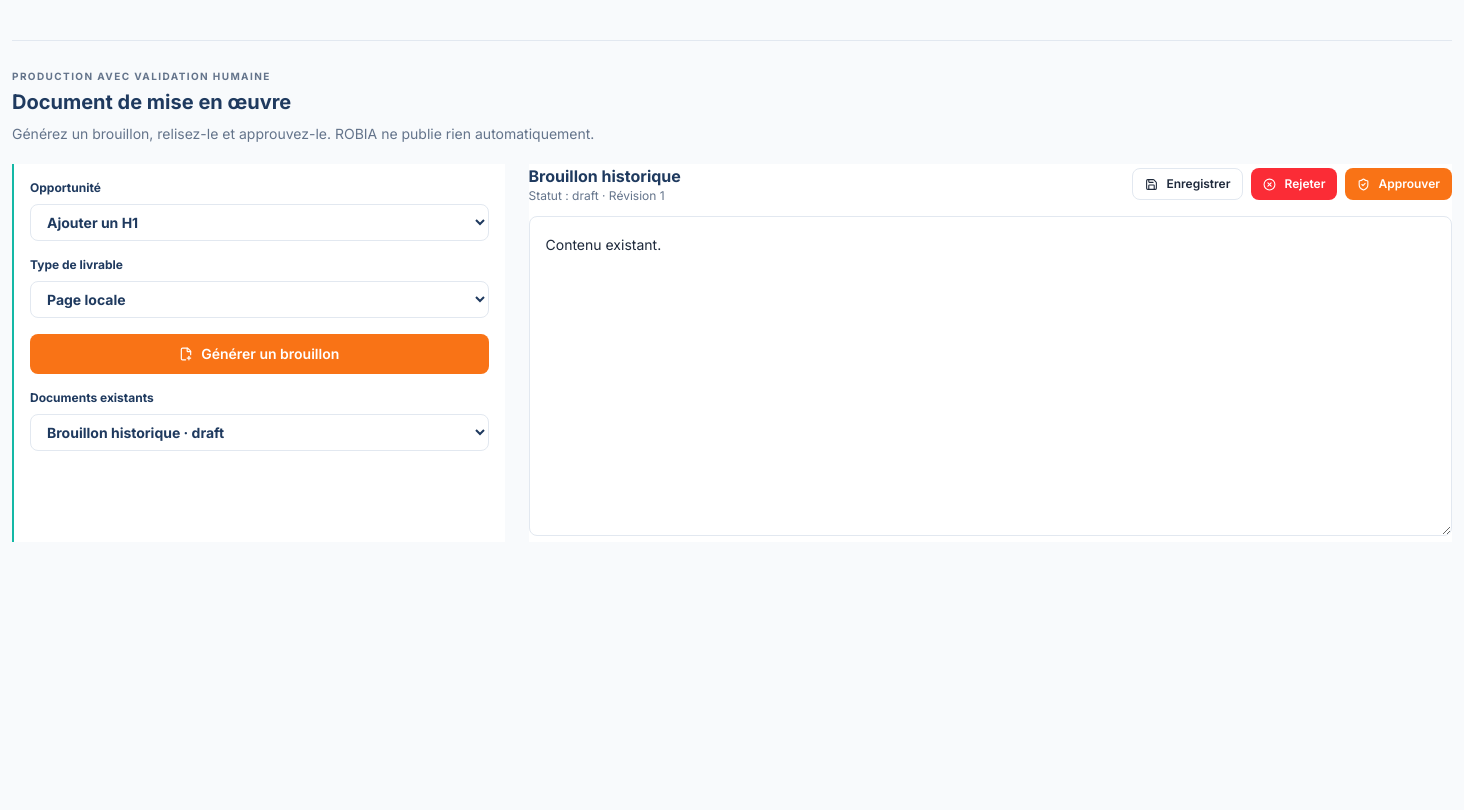
Test: DocumentWorkflow — migrated to revision-based saves › reloading after a conflict fetches the real server version
The image size is (1464, 810).
Replace the text in the text box showing "Contenu existant." with "Modifie en conflit." at (990, 376), box top-left (528, 216), bottom-right (1452, 536)
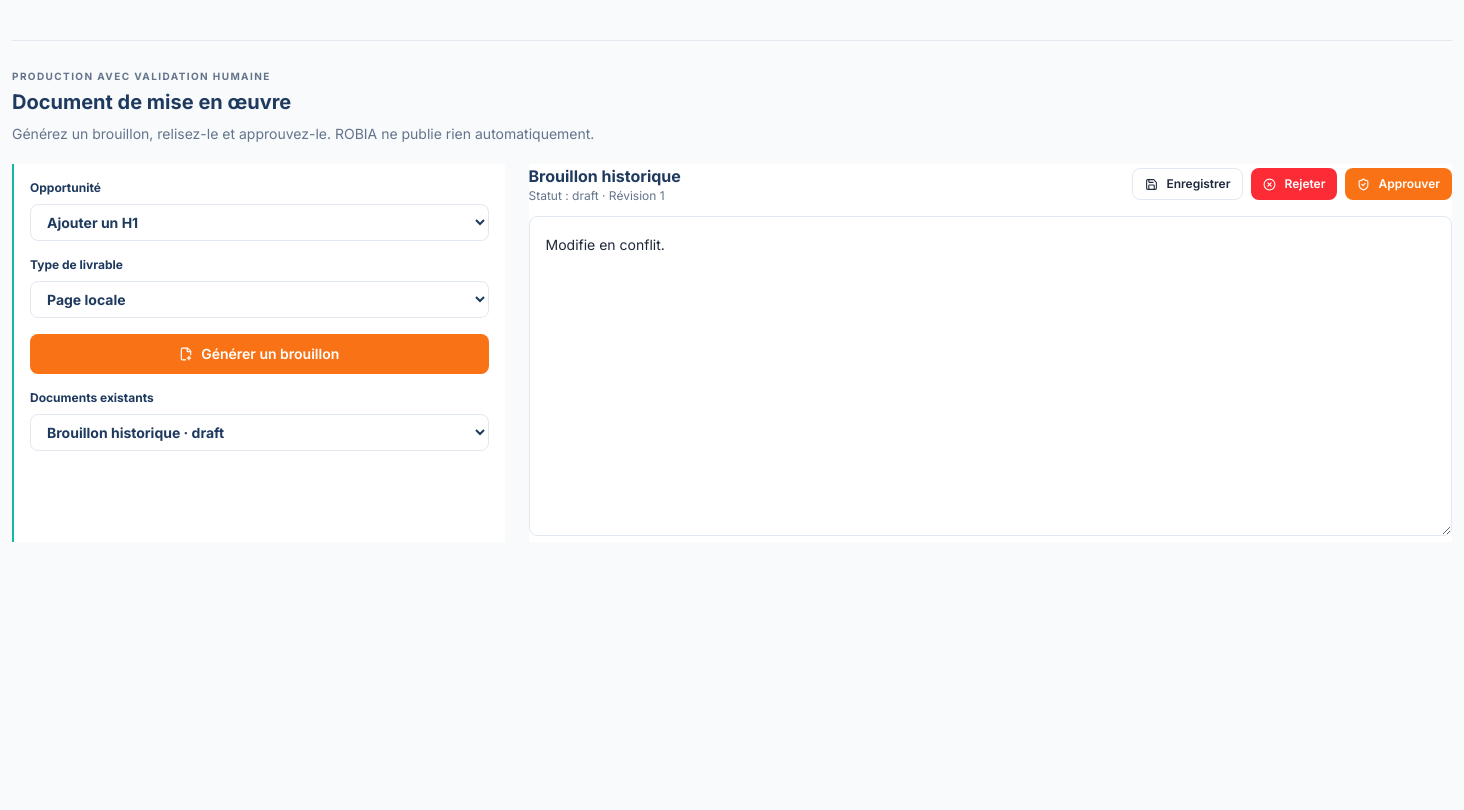
Click the button "Enregistrer" at (1188, 184), box top-left (1132, 168), bottom-right (1243, 200)
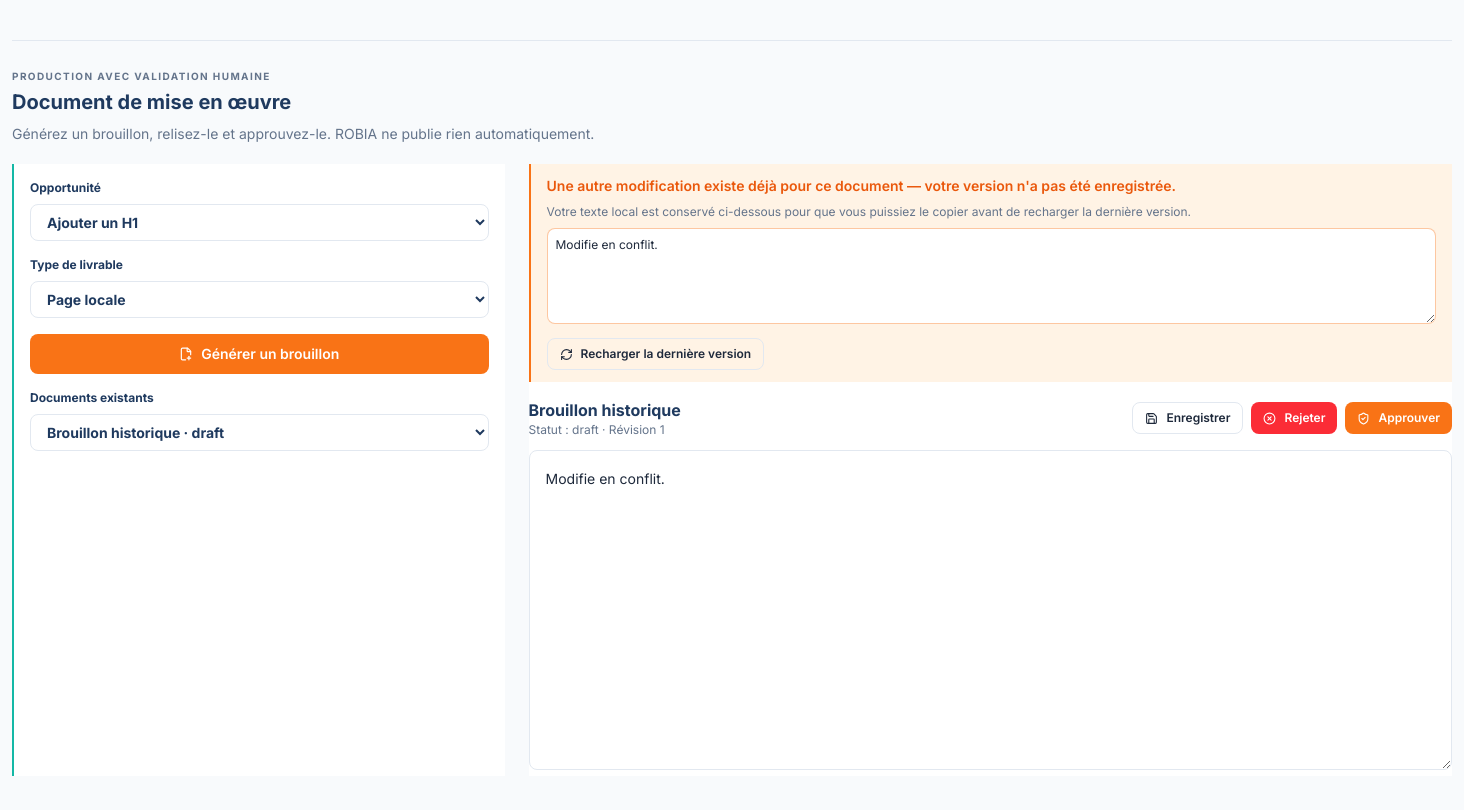
Result: the button "Recharger la dernière version" is shown
Click the button "Recharger la dernière version" at (655, 354), box top-left (546, 338), bottom-right (764, 370)
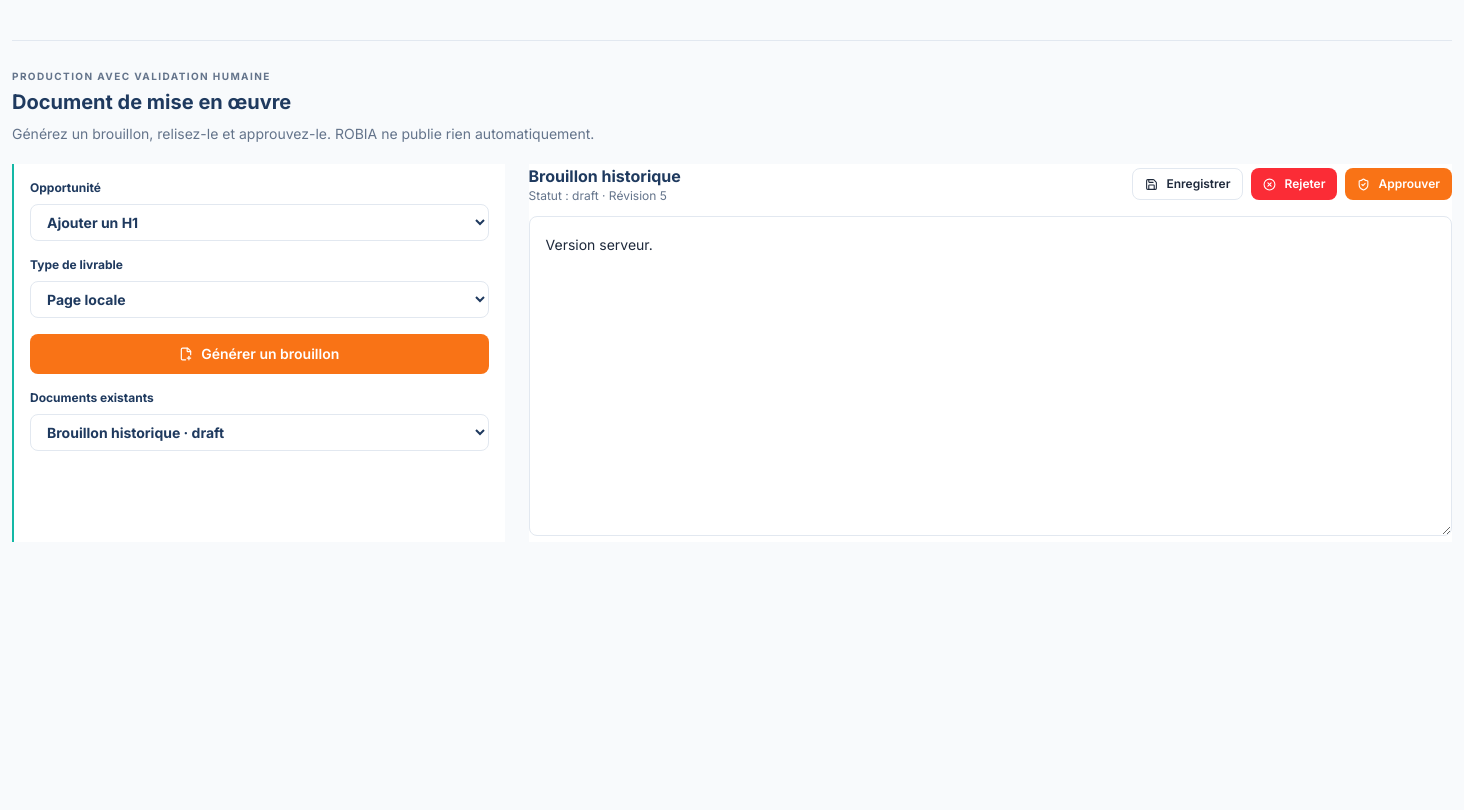
Result: the text box showing "Version serveur." is shown at top-left (528, 216), bottom-right (1452, 536)
Result: the text "Statut : draft · Révision 5" is shown at top-left (528, 188), bottom-right (681, 204)
